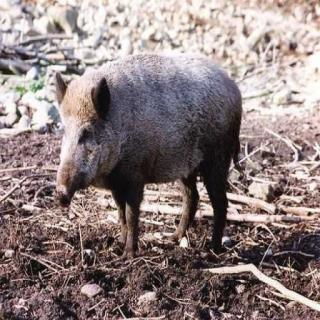Pig: (39, 26, 244, 271)
